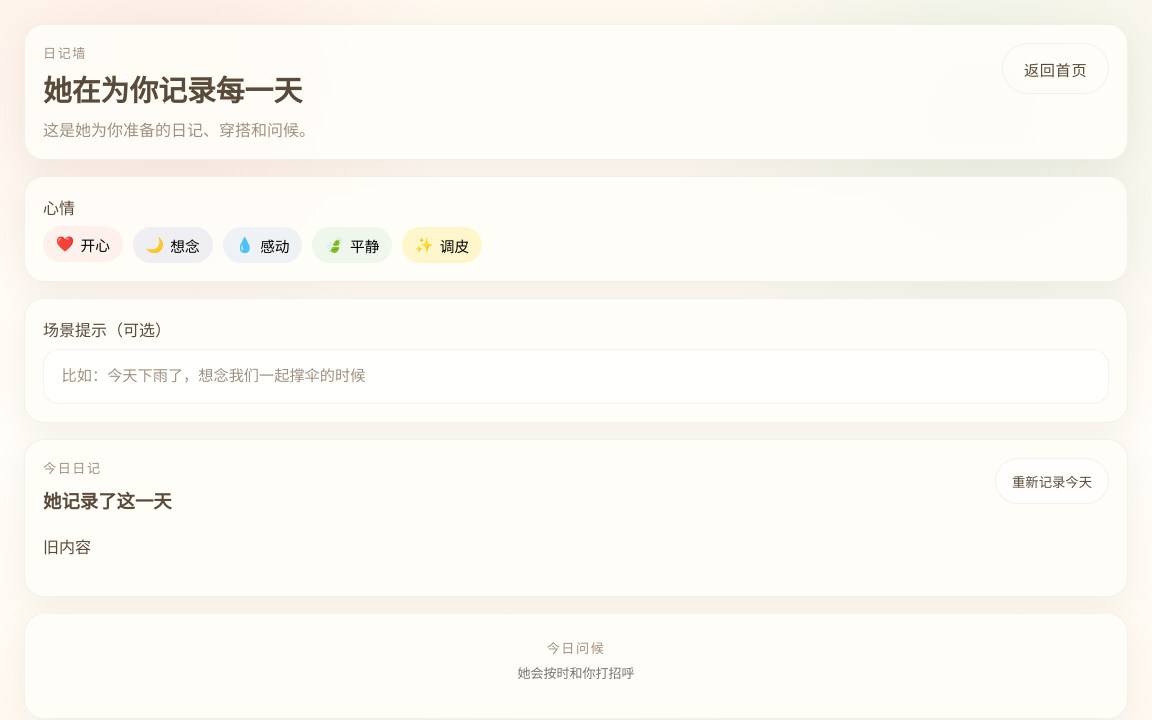
Scenario: DiaryWallPage wall feed › shows the regenerated journal content in place after refresh completes
The image size is (1152, 720).
What coordinates should you click on to do the following:
click the button "重新记录今天"
I would click on:
 (1052, 481)
Its box is [995, 458, 1109, 504].
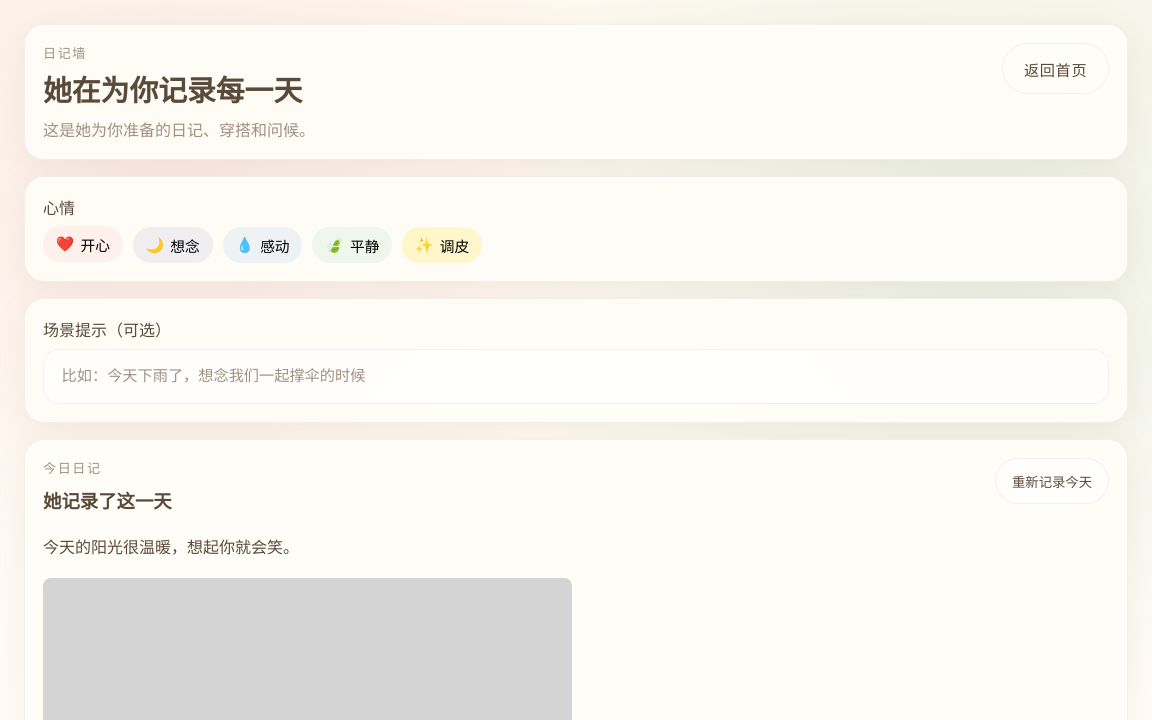
Expected: the heading "她记录了这一天" is shown, [43, 487, 172, 513]
Result: the text "今天的阳光很温暖，想起你就会笑。" is shown at [43, 539, 299, 556]
